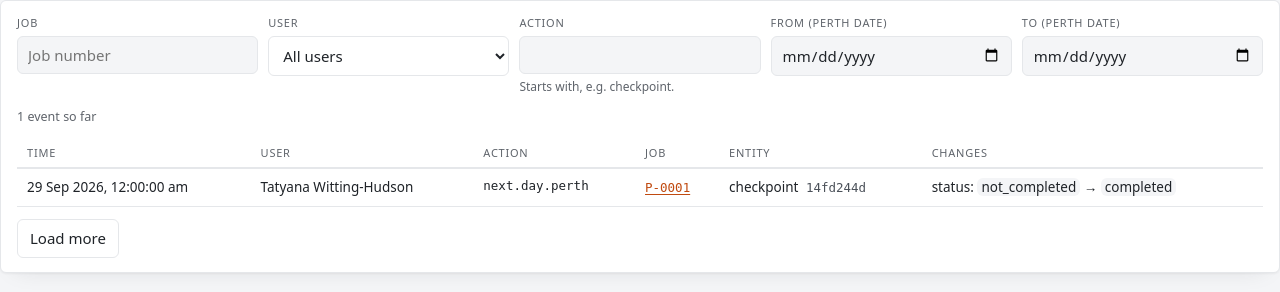
Test case: AuditPage Perth date range › finds the first event before the end date when only 'To' is set
This screenshot has width=1280, height=292.
Expected: the text "next.day.perth" is shown, [473, 168, 635, 207]
Type "2026-09-28" into the date field labelled "To (Perth date)". click: (1142, 56)
box: [1022, 36, 1263, 76]
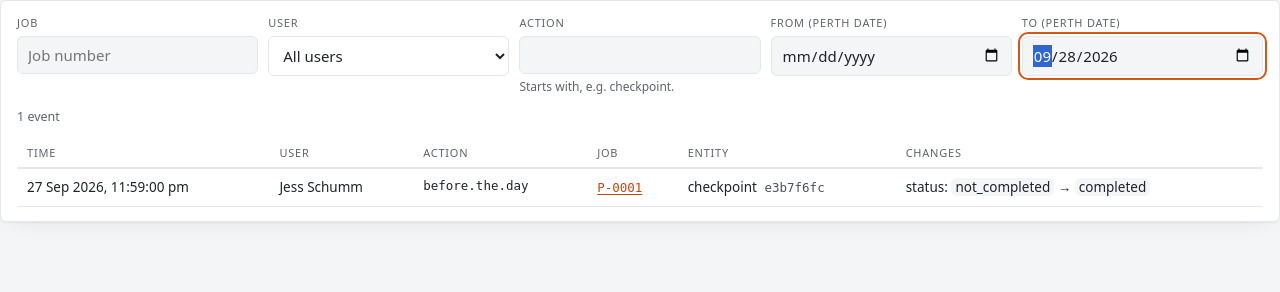
Now the text "before.the.day" is shown, box [413, 168, 587, 207]
